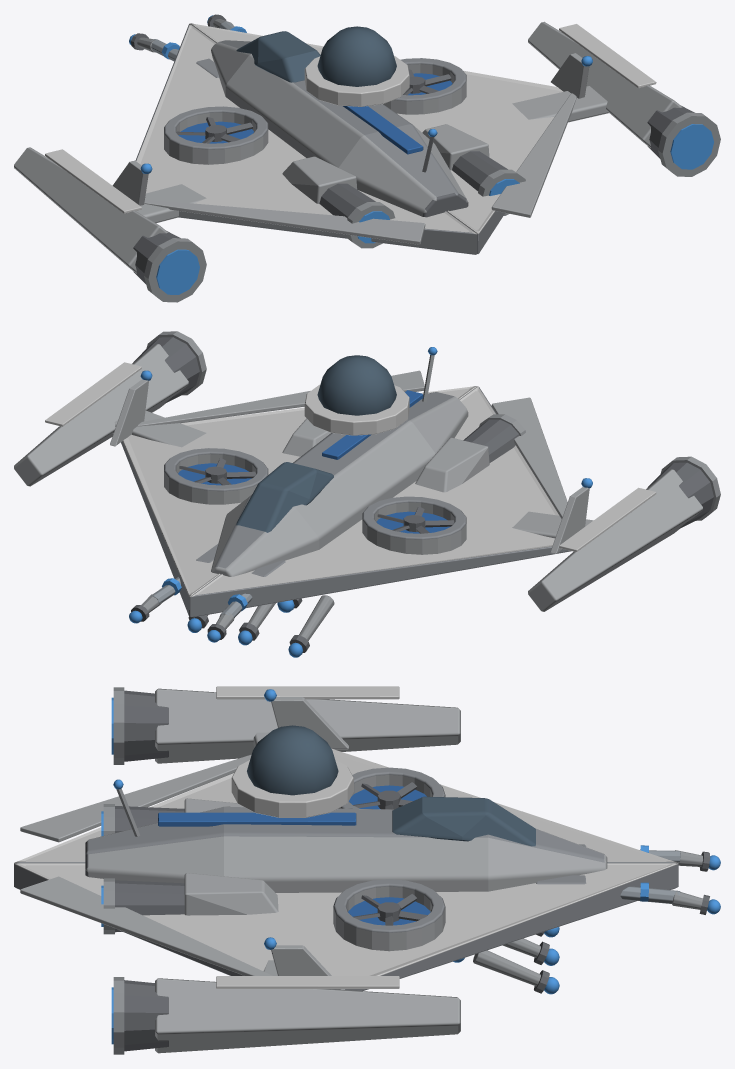
The model's file is lattice_builder_adv_air.glb.
The picture shows the model from 3 angles, top to bottom: view 1: azimuth 30°, elevation 25°; view 2: azimuth 150°, elevation 25°; view 3: azimuth 270°, elevation 25°; orthographic projection. The views are drawn at different scales.
Visible parts, largest first — view 1: Body; view 2: Body; view 3: Body.
Part boxes in pixels (x1,y1,x2,y2): Body: (14, 14, 720, 302); Body: (14, 331, 720, 657); Body: (14, 686, 720, 1054).
Bounding box in the file's own units: 2.5 × 0.8497 × 2.31.
